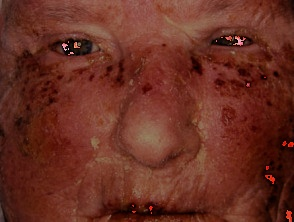SJS-TEN: (4, 35, 294, 222)
